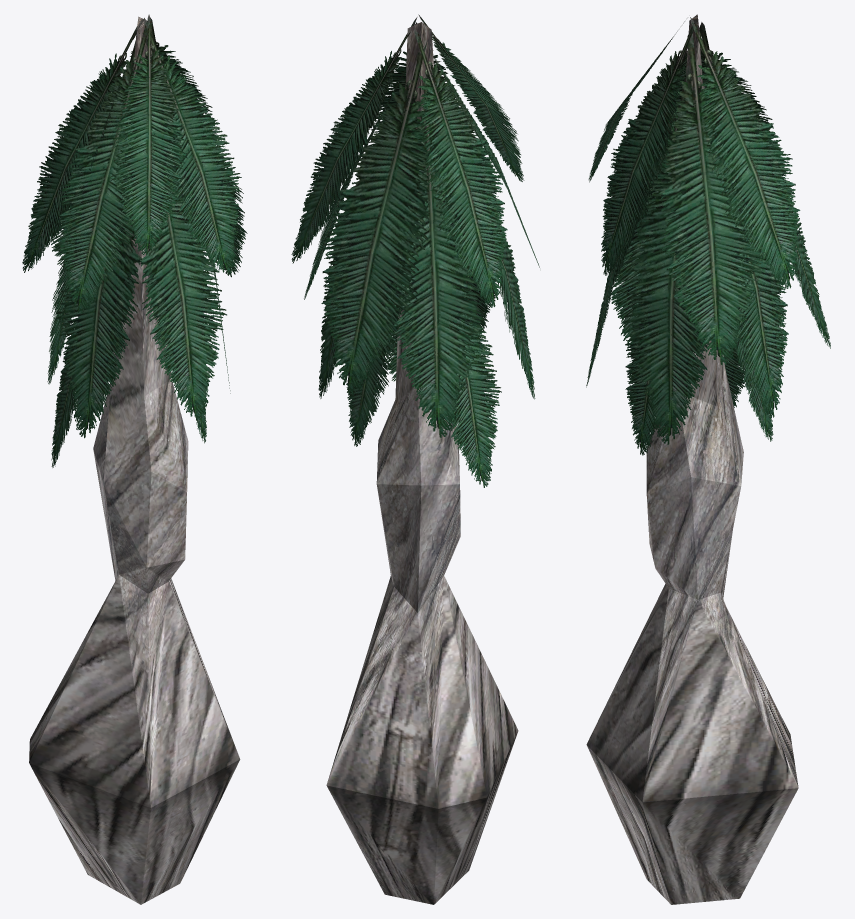
File: decd_boffa_l2.fbx
The picture shows the model from 3 angles, left to right: view 1: azimuth 30°, elevation 25°; view 2: azimuth 150°, elevation 25°; view 3: azimuth 270°, elevation 25°; orthographic projection.
Parts seen in each view (by area): view 1: mesh_node; view 2: mesh_node; view 3: mesh_node.
Boxes of the visible parts, x1,y1,x2,y2 form: mesh_node: (22,14,247,904); mesh_node: (291,14,539,904); mesh_node: (586,14,830,904).
Size of the model in its own units: 3.88 by 14.99 by 4.03.
